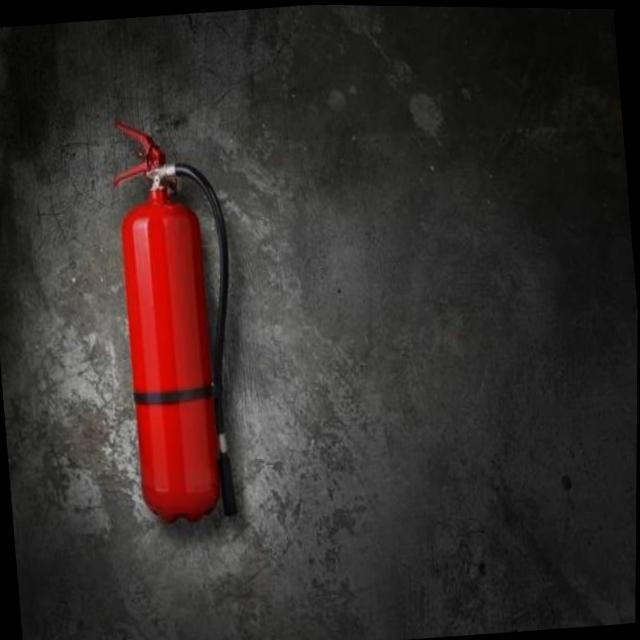FireExtinguisher: (103, 104, 254, 535)
